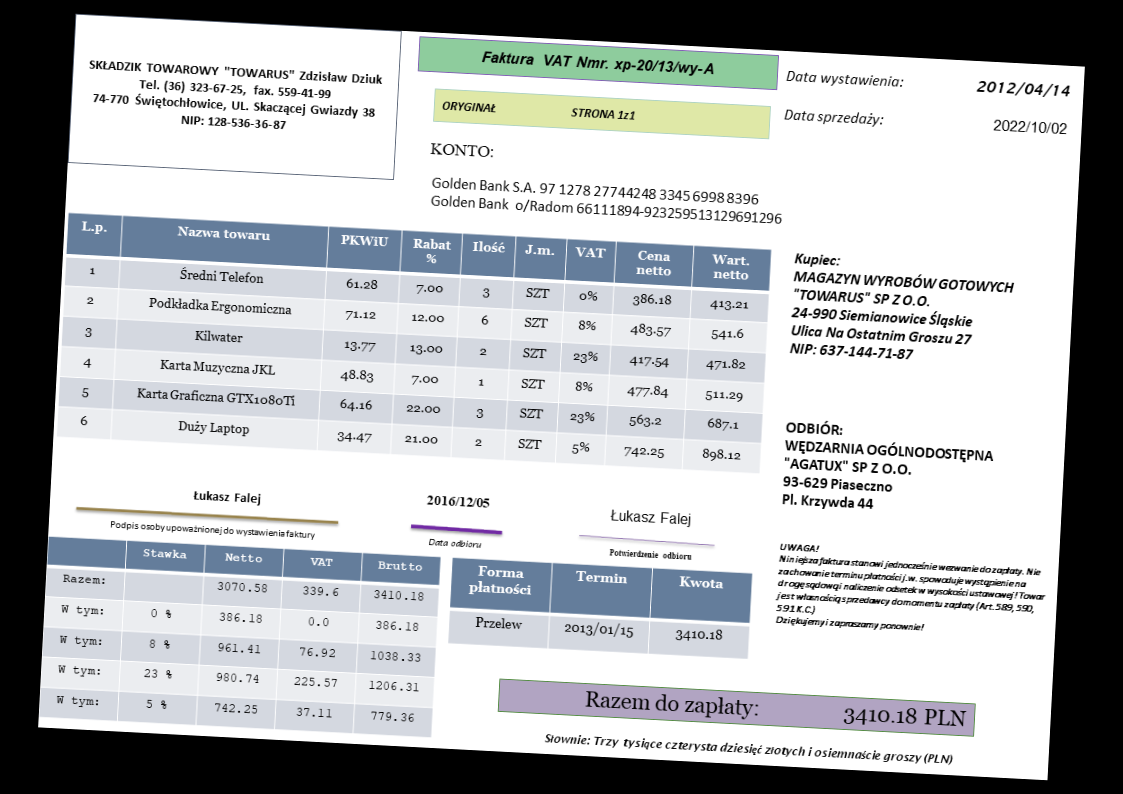Table: (55, 212, 773, 475), (40, 537, 441, 737), (446, 555, 755, 660)
TextBox: (773, 541, 1049, 640), (788, 250, 1018, 367), (84, 56, 386, 138), (781, 417, 996, 519), (429, 174, 787, 227), (583, 688, 968, 731), (543, 730, 957, 766), (477, 47, 717, 80), (107, 517, 317, 543), (439, 98, 637, 122), (785, 66, 906, 91), (783, 106, 887, 129), (974, 76, 1072, 98), (607, 507, 692, 530), (991, 117, 1070, 137), (424, 491, 491, 512), (190, 488, 263, 507), (608, 546, 693, 562), (429, 140, 495, 159), (426, 535, 483, 551)
